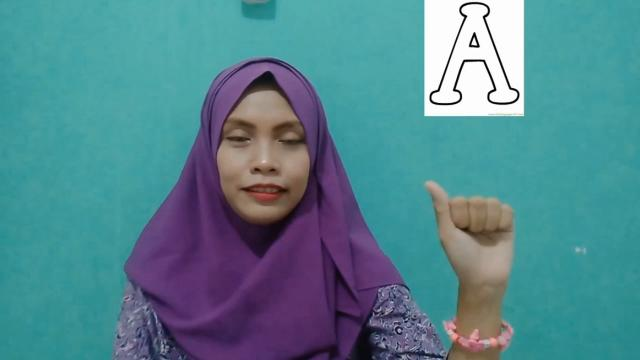A: (426, 179, 516, 300)
